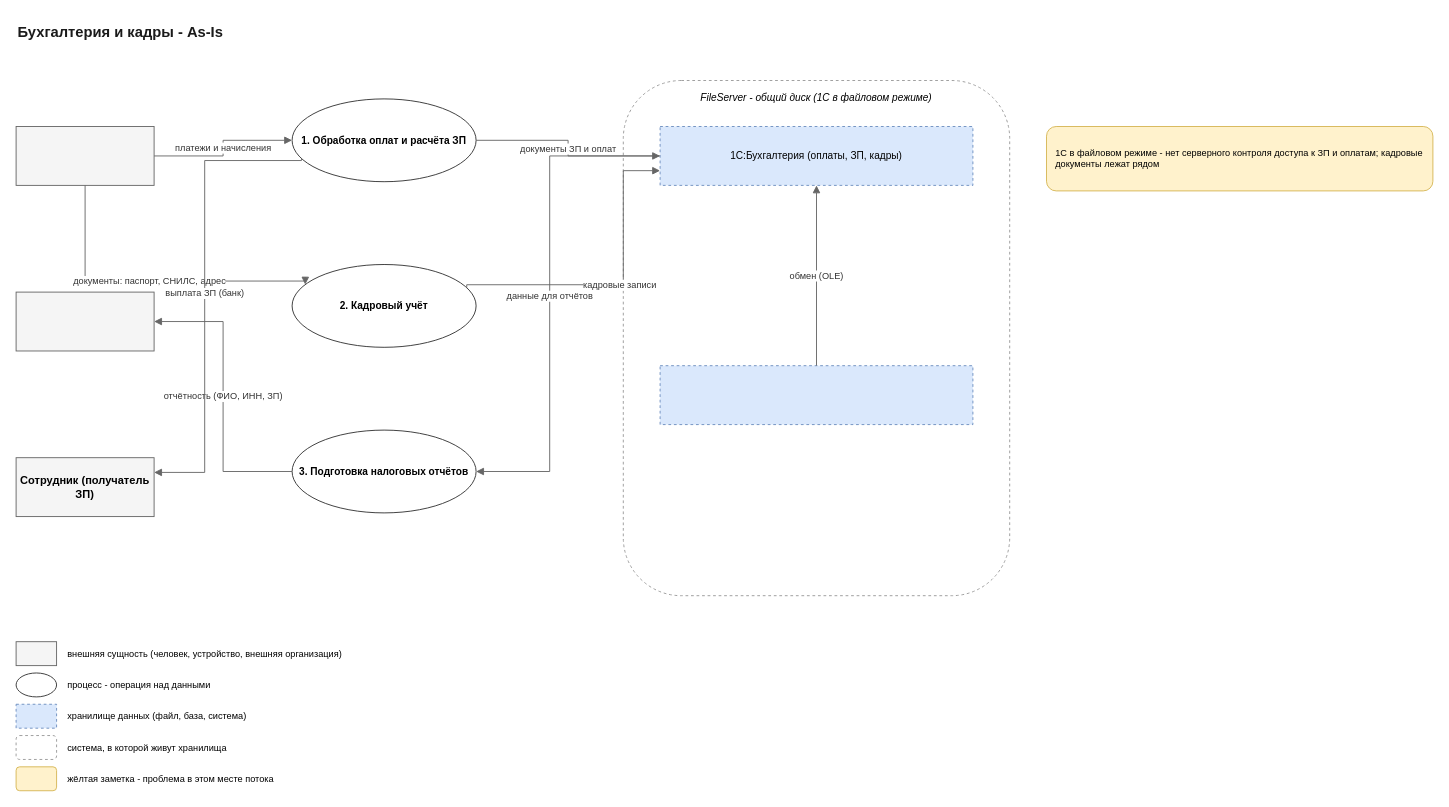
Image size: 1449x807. Some labels were removed from this diagram. Here are the shapes that lost their labels. From the top down, the centre of each, then its label:
At (x=84, y=155): "Бухгалтер".
At (x=84, y=321): "ФНС (налоговая)".
At (x=816, y=395): "1С:Торговля и склад (ТМЦ)".
